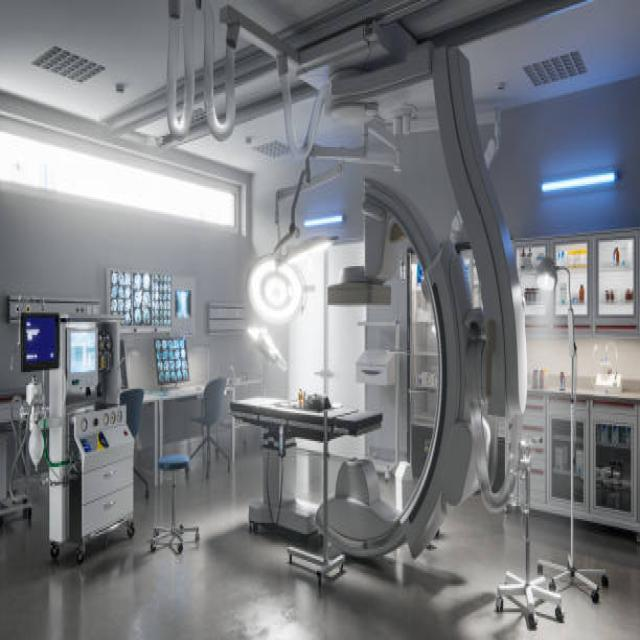Monitor: (58, 317, 110, 401), (16, 304, 67, 382)
bed: (228, 371, 389, 554)
chair: (193, 355, 238, 474)
stool: (131, 441, 211, 571)
